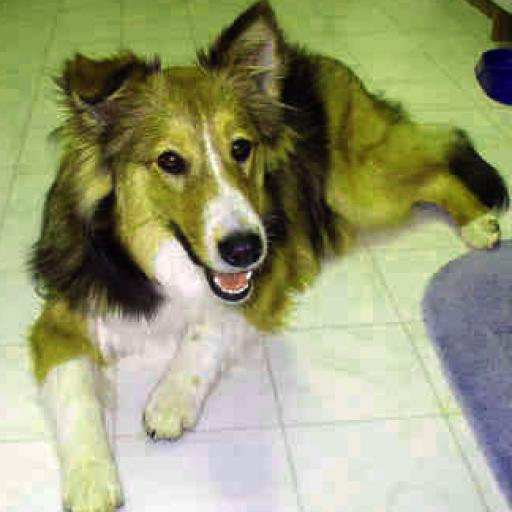dog_face: (63, 6, 277, 301)
